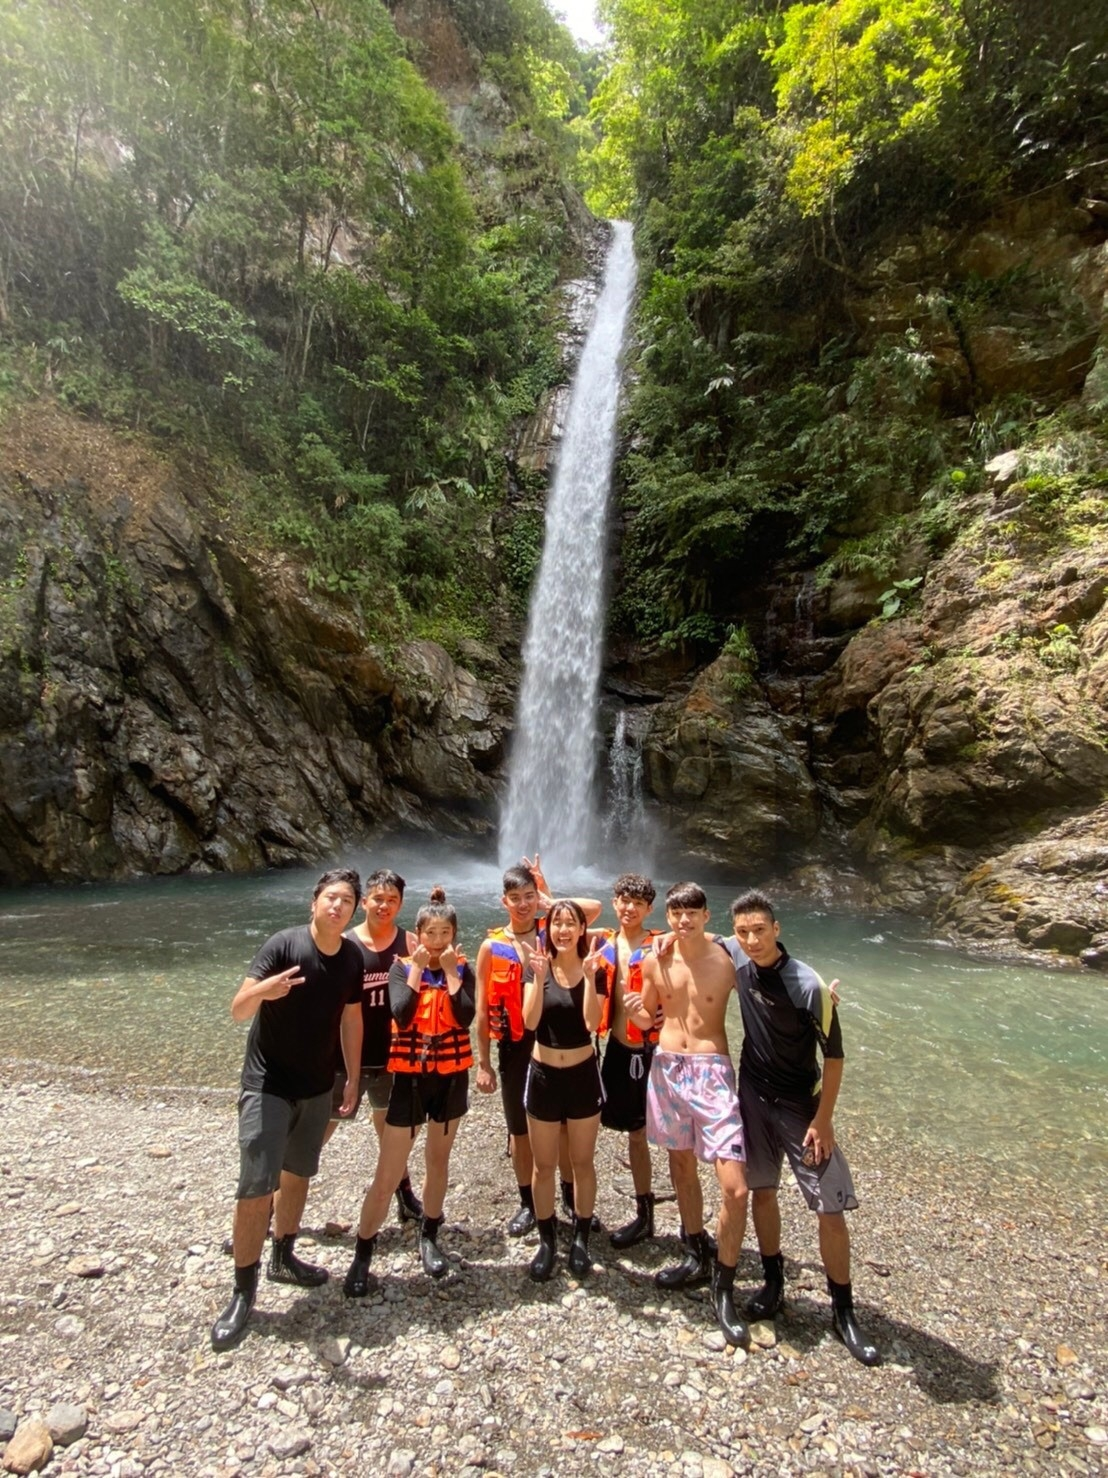people: (724, 890, 878, 1373), (247, 871, 357, 1335), (638, 878, 747, 1314), (397, 897, 483, 1314), (595, 869, 678, 1257), (531, 919, 612, 1285), (486, 859, 562, 1247), (350, 871, 419, 1243)
